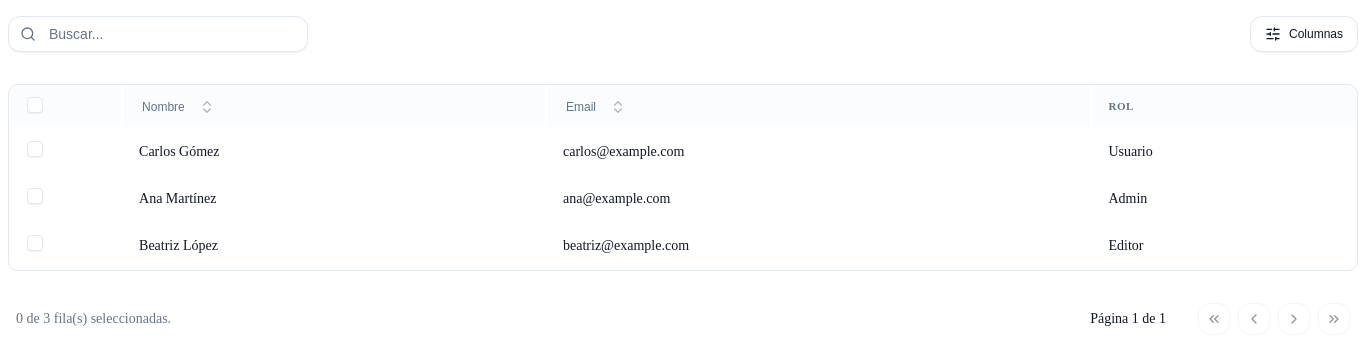
Test: DataTable Component › manages row selection with individual and select all checkboxes
Check: the text "0 de 3 fila(s) seleccionadas." is shown, box [16,311,171,326]
Click the checkbox named "Seleccionar fila 1" at (35, 149), box [27,141,43,157]
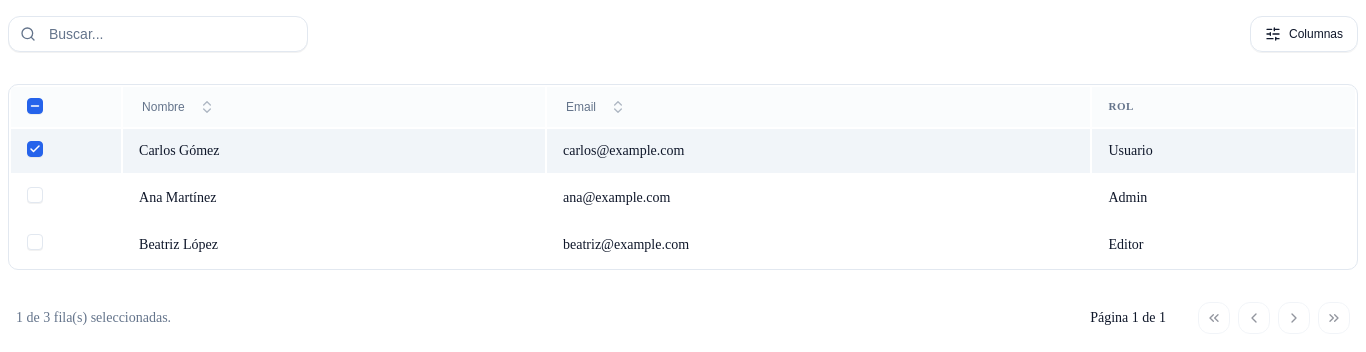
Check: the text "1 de 3 fila(s) seleccionadas." is shown, box [16,310,171,325]
Click the checkbox named "Seleccionar todo" at (35, 106), box [27,98,43,114]
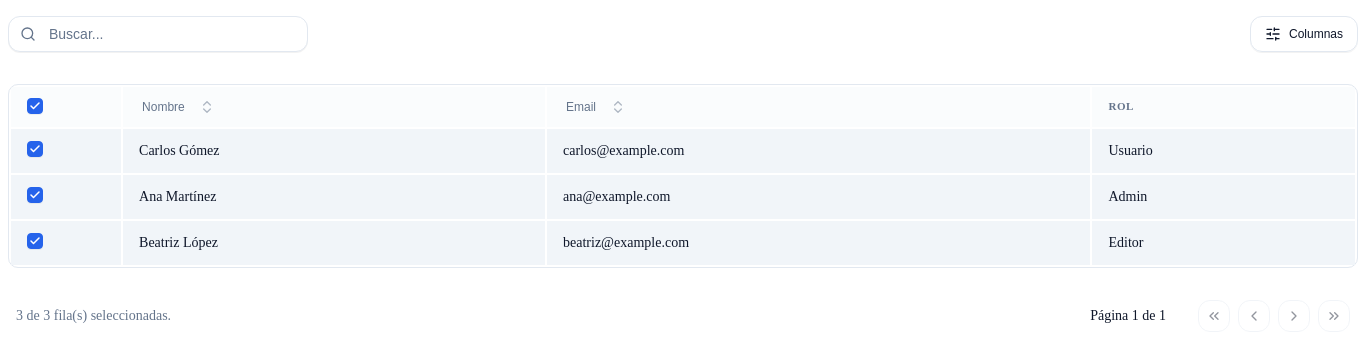
Check: the text "3 de 3 fila(s) seleccionadas." is shown, box [16,308,171,323]
# Deselect all
Click the checkbox named "Seleccionar todo" at (35, 106), box [27,98,43,114]
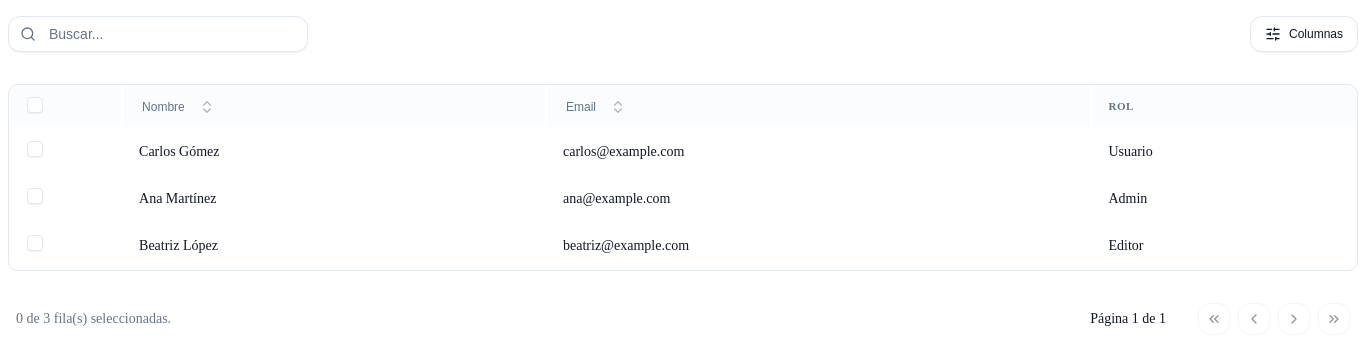
Check: the text "0 de 3 fila(s) seleccionadas." is shown, box [16,311,171,326]
